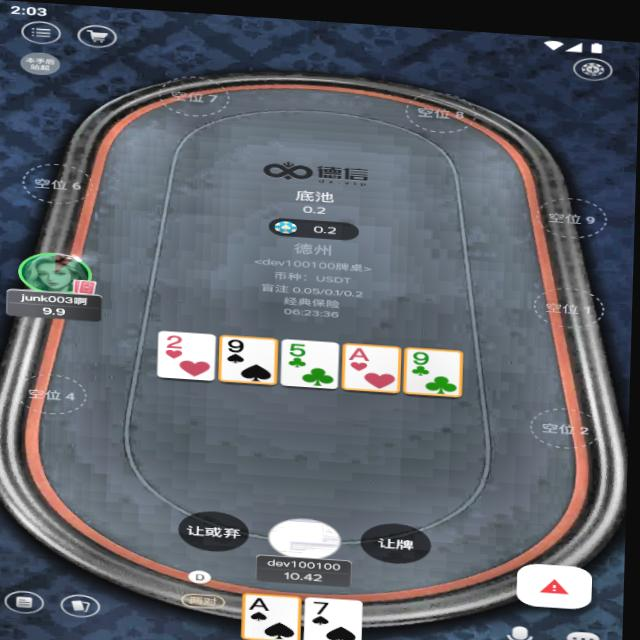2h: (164, 331, 190, 348)
5m: (287, 336, 314, 354)
7s: (309, 595, 343, 613)
9m: (408, 344, 433, 361)
9s: (223, 333, 257, 352)
Ah: (350, 340, 376, 358)
As: (250, 591, 276, 609)
